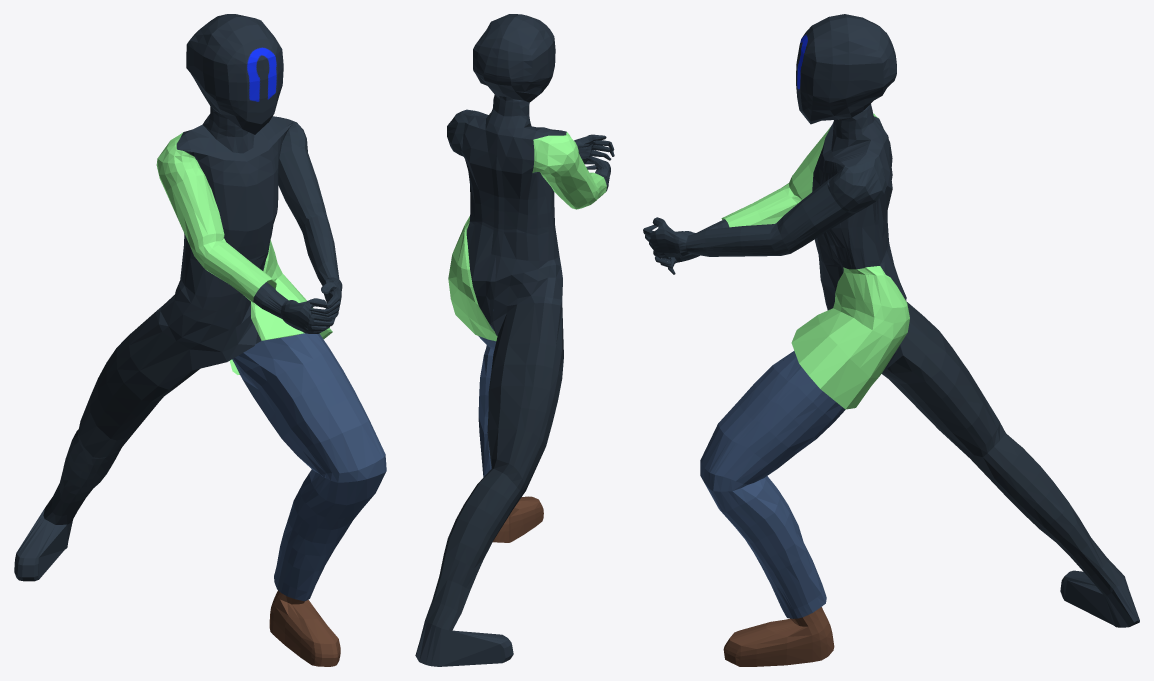
File: Mar_WB_000018.obj
The picture shows the model from 3 angles, left to right: view 1: azimuth 30°, elevation 25°; view 2: azimuth 150°, elevation 25°; view 3: azimuth 270°, elevation 25°; orthographic projection. The views are drawn at different scales.
Visible parts, largest first — view 1: Cube.000_Cube.001; view 2: Cube.000_Cube.001; view 3: Cube.000_Cube.001.
Boxes of the visible parts, x1,y1,x2,y2 form: Cube.000_Cube.001: (14, 14, 386, 666); Cube.000_Cube.001: (415, 14, 614, 666); Cube.000_Cube.001: (643, 14, 1139, 666).
Bounding box in the file's own units: 1.15 × 3.49 × 2.5.
